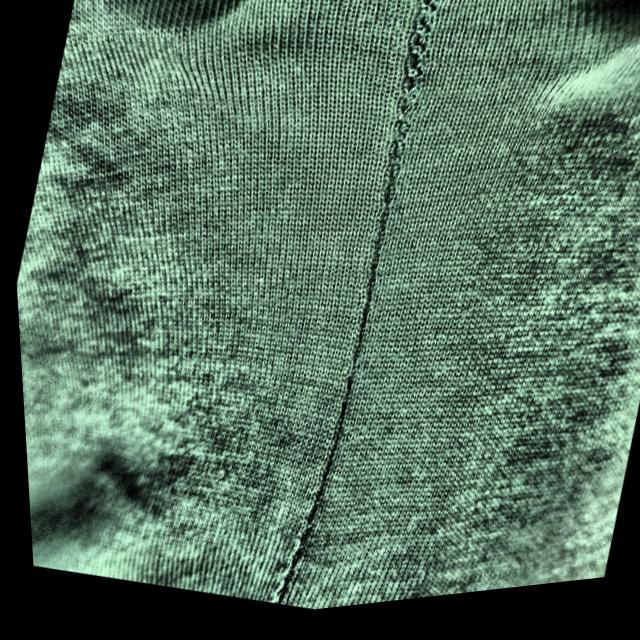Stitch: (333, 0, 468, 225)
